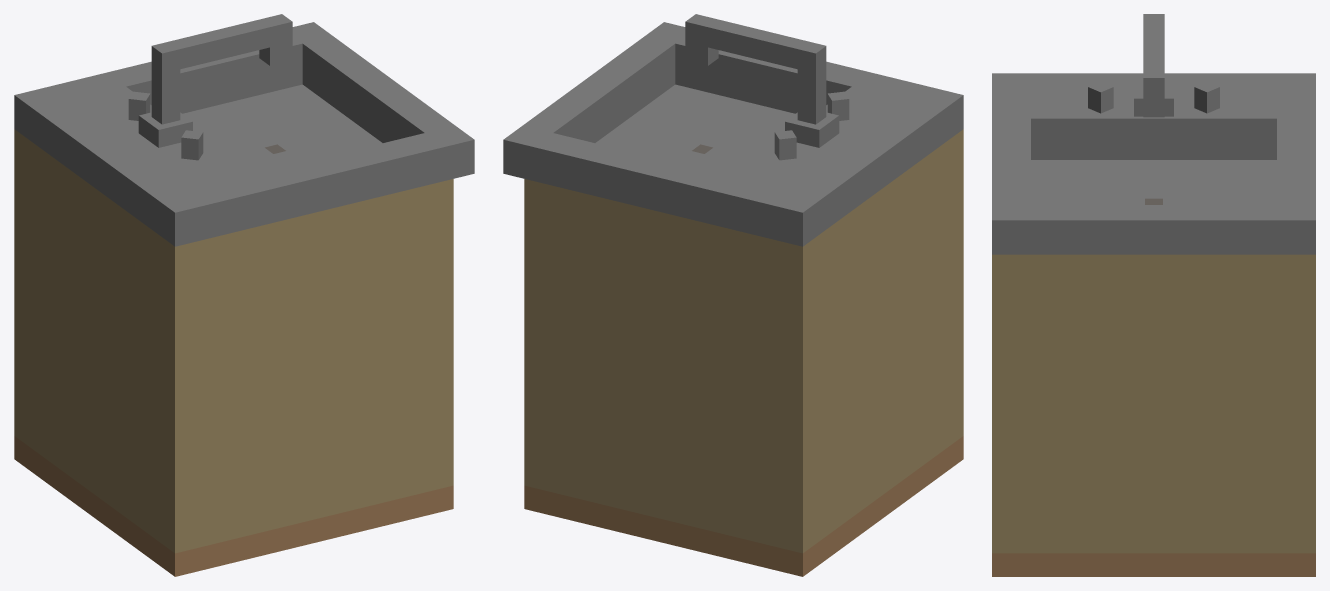
Rendered from sink.fbx.
3 renders of one model, left to right at view 1: azimuth 30°, elevation 25°; view 2: azimuth 150°, elevation 25°; view 3: azimuth 270°, elevation 25°, orthographic.
Parts seen in each view (by area): view 1: sink; view 2: sink; view 3: sink.
Part boxes in pixels (x1,y1,x2,y2): sink: (14,14,474,576); sink: (503,14,963,576); sink: (992,14,1315,576).
Size of the model in its own units: 215 by 311 by 200.
